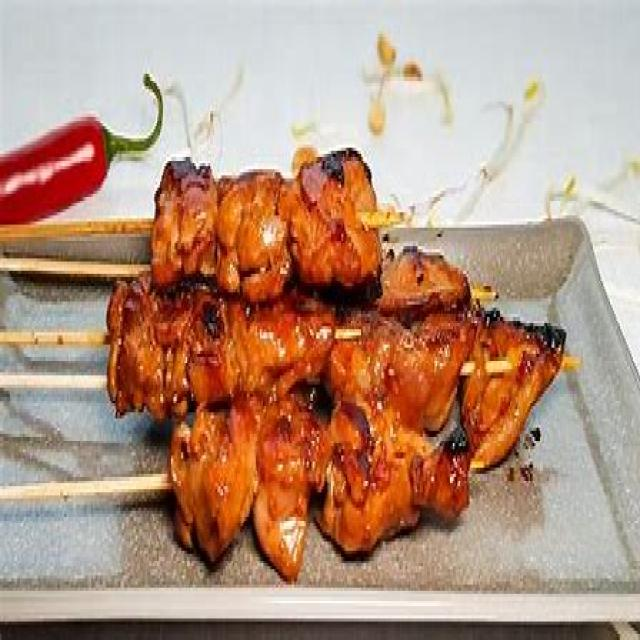Sate: (95, 132, 565, 578)
